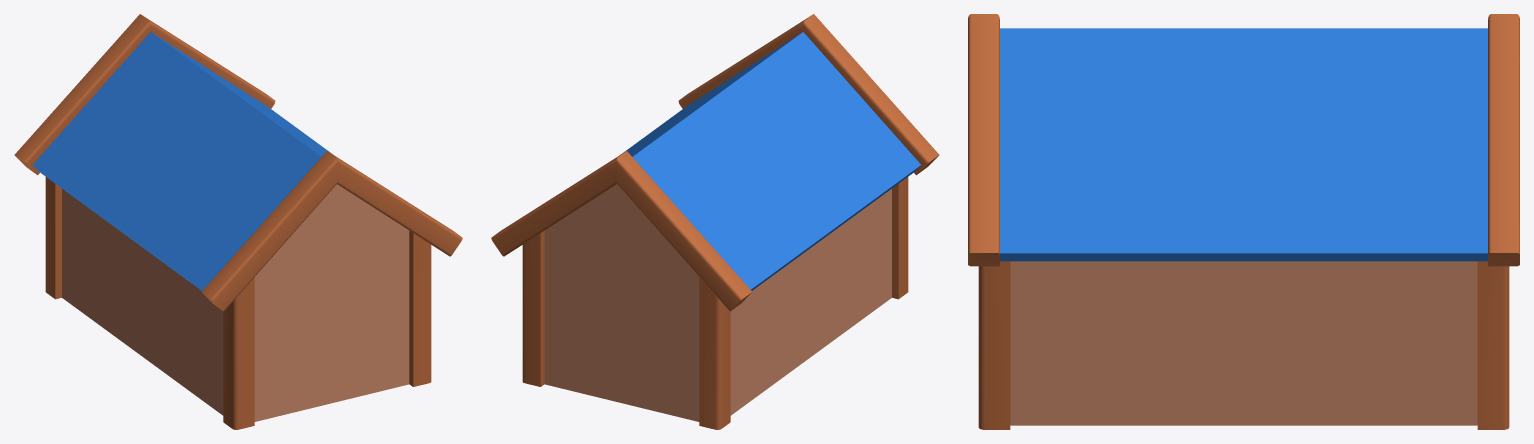
Rendered from Barn.fbx.
The picture shows the model from 3 angles, left to right: view 1: azimuth 30°, elevation 25°; view 2: azimuth 150°, elevation 25°; view 3: azimuth 270°, elevation 25°; orthographic projection. The views are drawn at different scales.
Parts seen in each view (by area): view 1: barn; view 2: barn; view 3: barn.
Part boxes in pixels (box(x1,y1,x2,y2)): barn: box(14, 14, 462, 429); barn: box(491, 14, 939, 429); barn: box(968, 14, 1519, 429).
Bounding box in the file's own units: 304 × 290 × 416.
Materials: 1 (1 with a texture image).
